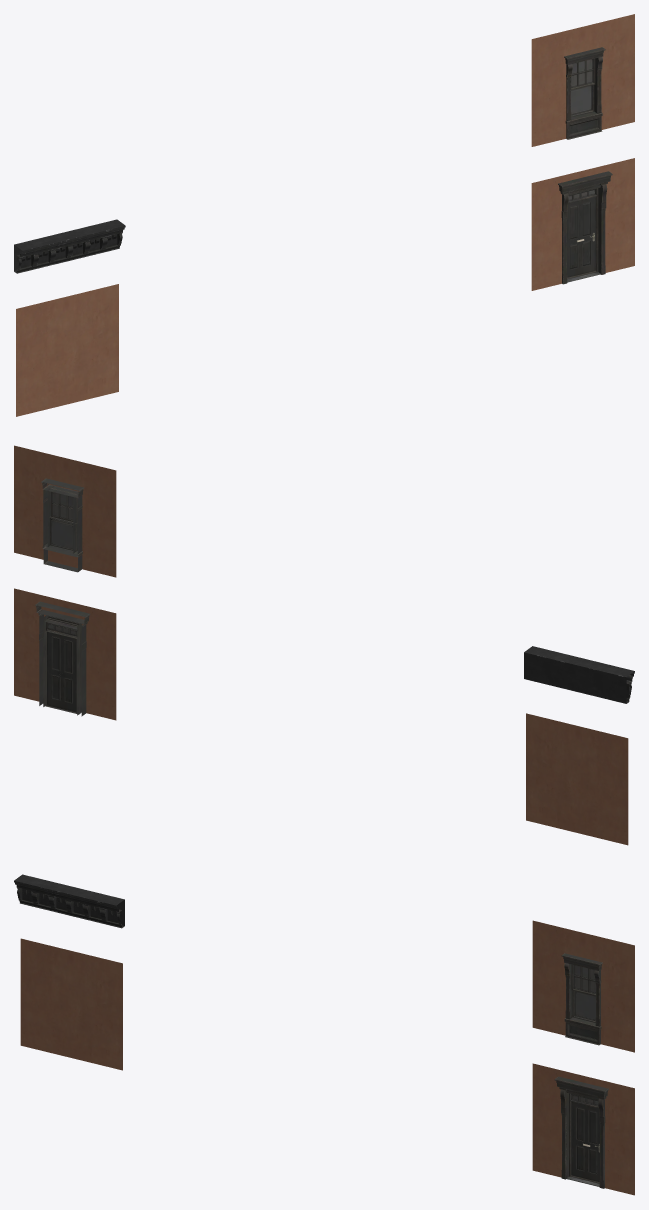
Rendered from urban-real.glb.
The picture shows the model from 3 angles, top to bottom: view 1: azimuth 30°, elevation 25°; view 2: azimuth 150°, elevation 25°; view 3: azimuth 330°, elevation 25°; orthographic projection.
Parts seen in each view (by area): view 1: wall_standard_standard_01, wall_window_centered_small_01, wall_door_centered_small_01, door_centered_small_01, crown_standard_standard_01, window_centered_small_01; view 2: wall_standard_standard_01, wall_window_centered_small_01, wall_door_centered_small_01, door_centered_small_01, crown_standard_standard_01, window_centered_small_01; view 3: wall_standard_standard_01, wall_window_centered_small_01, wall_door_centered_small_01, door_centered_small_01, crown_standard_standard_01, window_centered_small_01.
Boxes of the visible parts, x1,y1,x2,y2 form: wall_standard_standard_01: [16, 284, 118, 416]; wall_window_centered_small_01: [531, 14, 634, 146]; wall_door_centered_small_01: [531, 158, 634, 290]; door_centered_small_01: [558, 171, 612, 284]; crown_standard_standard_01: [14, 219, 125, 273]; window_centered_small_01: [564, 47, 605, 139]; wall_standard_standard_01: [526, 713, 628, 845]; wall_window_centered_small_01: [14, 445, 116, 577]; wall_door_centered_small_01: [14, 588, 116, 720]; door_centered_small_01: [35, 601, 90, 716]; crown_standard_standard_01: [524, 646, 634, 703]; window_centered_small_01: [41, 478, 84, 572]; wall_standard_standard_01: [20, 938, 122, 1070]; wall_window_centered_small_01: [532, 920, 634, 1052]; wall_door_centered_small_01: [532, 1063, 634, 1195]; door_centered_small_01: [554, 1076, 608, 1188]; crown_standard_standard_01: [14, 874, 124, 928]; window_centered_small_01: [561, 953, 602, 1045].
Bounding box in the file's own units: 18 × 7 × 0.57.
4 materials, 4 textured.
